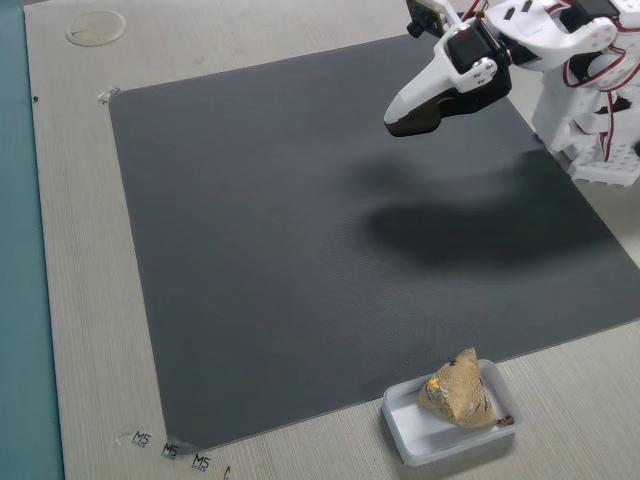objects: (379, 24, 504, 150)
